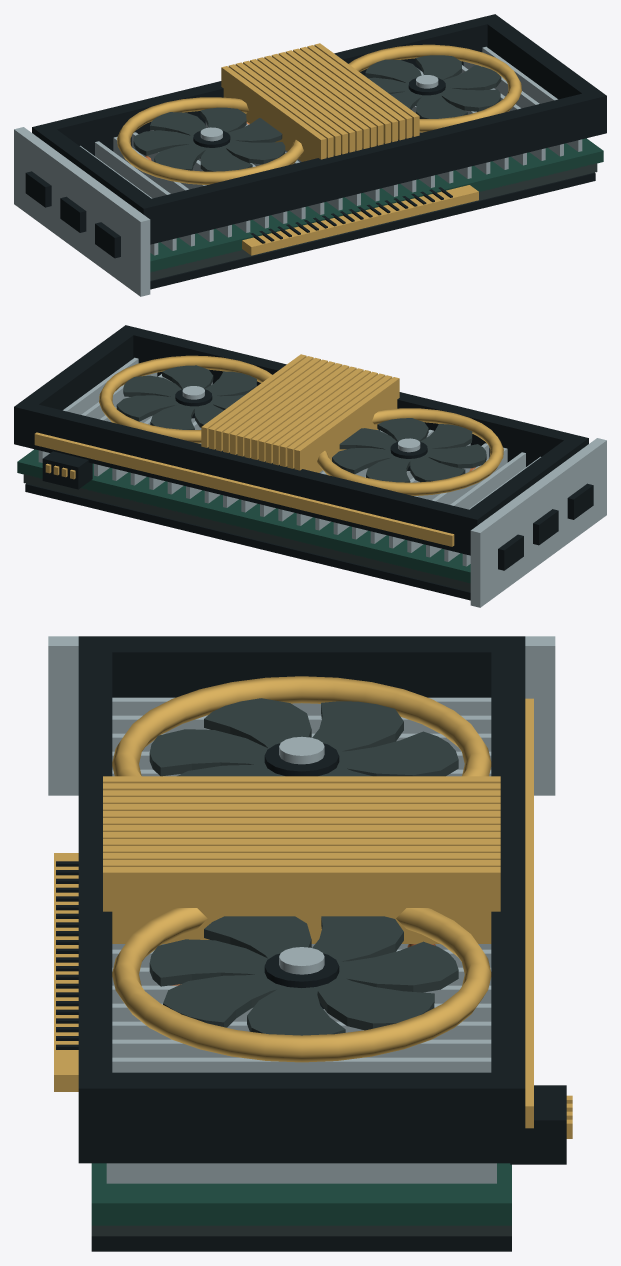
The model's file is gpu-workstation.glb.
3 renders of one model, top to bottom at view 1: azimuth 30°, elevation 25°; view 2: azimuth 150°, elevation 25°; view 3: azimuth 270°, elevation 25°, orthographic. The views are drawn at different scales.
Visible parts, largest first — view 1: Rubber and ABS, Contacts, Brushed aluminium, Anodized graphite (×2), gpu-workstation, fan-rotor (×2); view 2: Rubber and ABS, Contacts, Brushed aluminium, gpu-workstation, Anodized graphite (×2), fan-rotor (×2); view 3: Rubber and ABS, Contacts, Anodized graphite (×2), Brushed aluminium, gpu-workstation, fan-rotor (×2).
Part boxes in pixels (left/top/right/bottom): Rubber and ABS: left=25, top=14, right=606, bottom=289; Contacts: left=117, top=43, right=521, bottom=255; Brushed aluminium: left=14, top=46, right=582, bottom=296; Anodized graphite (×2): left=133, top=55, right=501, bottom=171; gpu-workstation: left=150, top=138, right=603, bottom=280; fan-rotor (×2): left=193, top=75, right=445, bottom=158; Rubber and ABS: left=14, top=325, right=593, bottom=600; Contacts: left=34, top=354, right=503, bottom=546; Brushed aluminium: left=38, top=357, right=606, bottom=607; gpu-workstation: left=17, top=449, right=470, bottom=591; Anodized graphite (×2): left=116, top=365, right=486, bottom=482; fan-rotor (×2): left=175, top=386, right=427, bottom=470; Rubber and ABS: left=56, top=636, right=566, bottom=1251; Contacts: left=54, top=676, right=572, bottom=1138; Anodized graphite (×2): left=149, top=698, right=458, bottom=1035; Brushed aluminium: left=48, top=636, right=555, bottom=1183; gpu-workstation: left=91, top=1163, right=511, bottom=1236; fan-rotor (×2): left=264, top=736, right=339, bottom=1008.
Size of the model in its own units: 2.95 by 0.6175 by 1.4.
